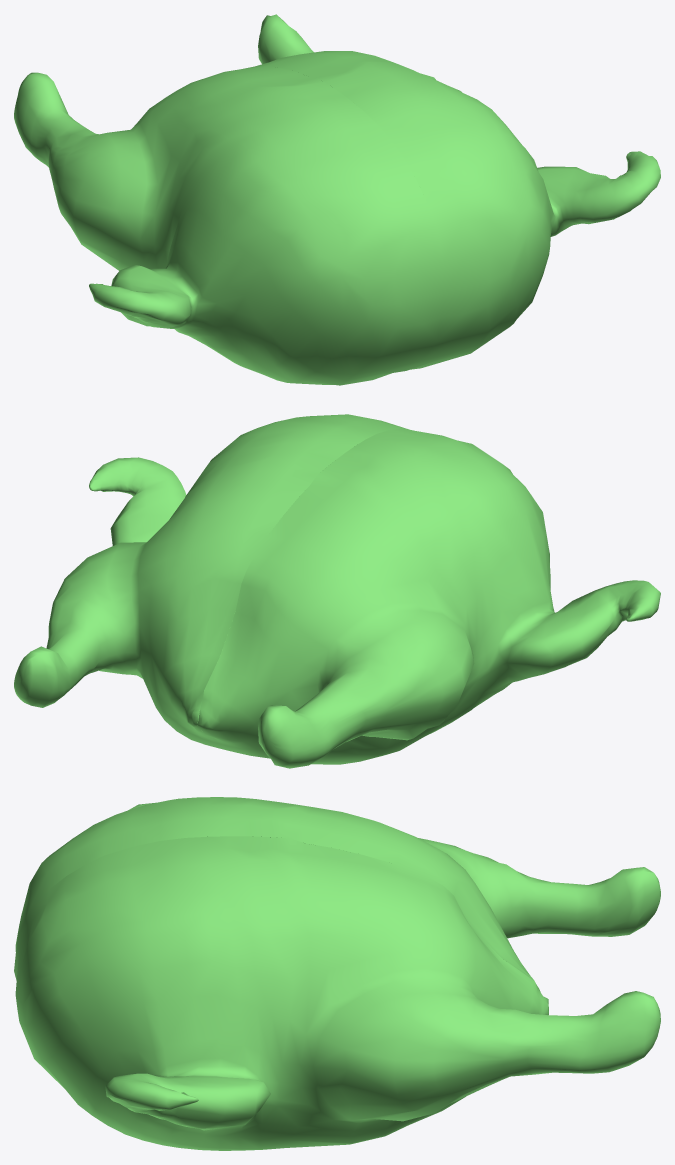
Rendered from chicken.fbx.
The picture shows the model from 3 angles, top to bottom: view 1: azimuth 30°, elevation 25°; view 2: azimuth 150°, elevation 25°; view 3: azimuth 270°, elevation 25°; orthographic projection. The views are drawn at different scales.
Parts seen in each view (by area): view 1: Plane; view 2: Plane; view 3: Plane.
Boxes of the visible parts, x1,y1,x2,y2 form: Plane: (14,14,660,385); Plane: (14,414,660,768); Plane: (14,797,660,1150).
Bounding box in the file's own units: 372 × 170 × 345.
